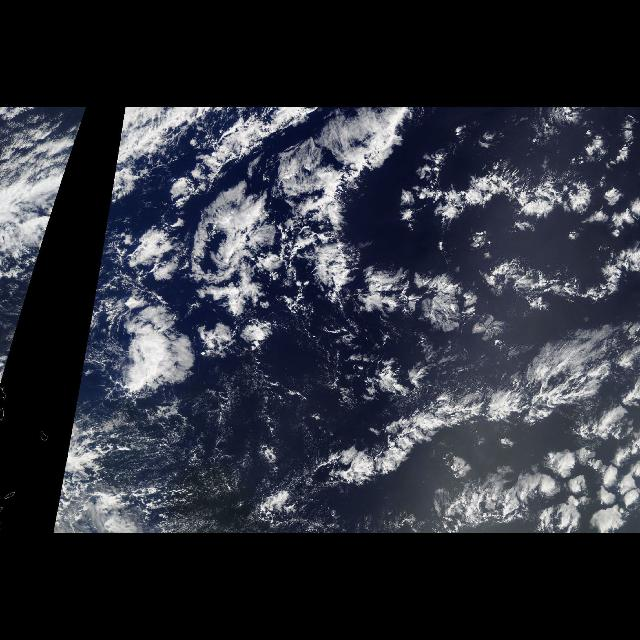Fish: (248, 109, 634, 525)
Flower: (316, 205, 590, 401), (429, 426, 639, 530)
Sugar: (116, 371, 310, 533)
